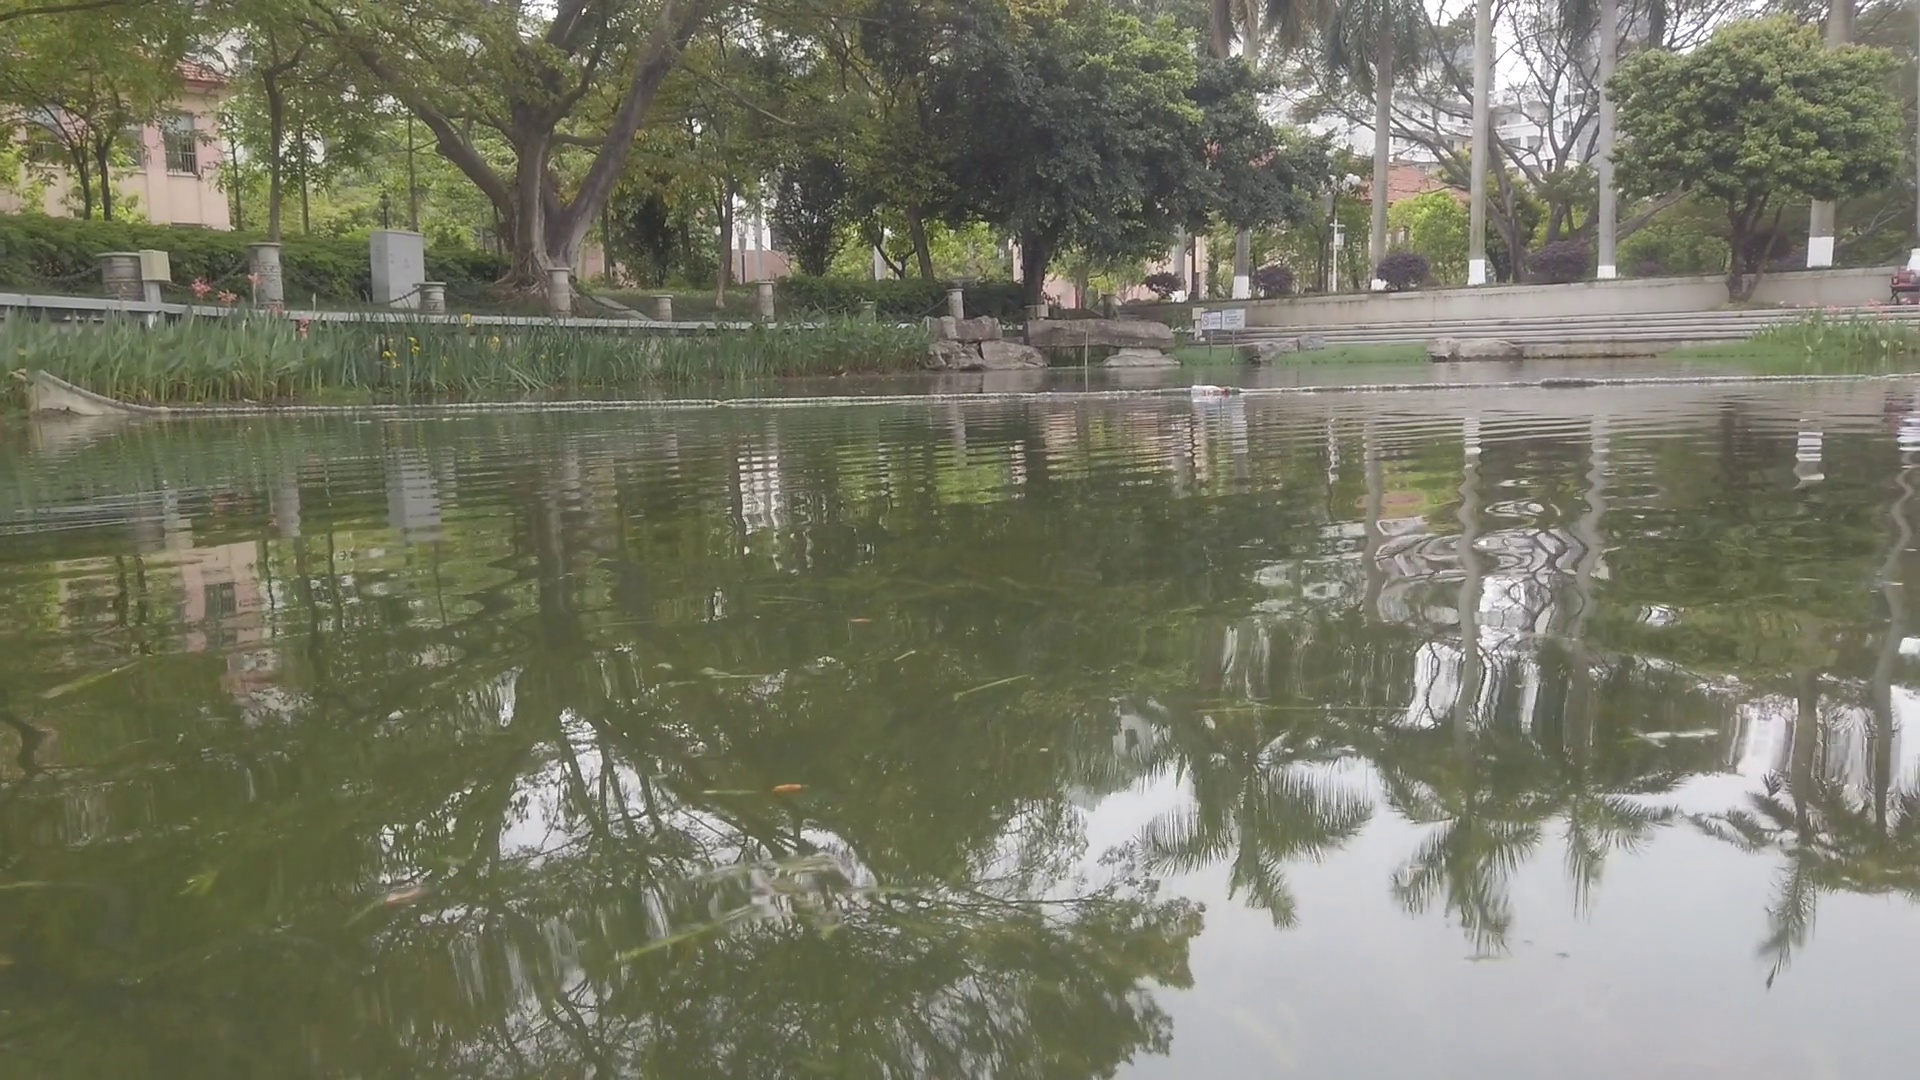bottle: (1189, 382, 1229, 398)
